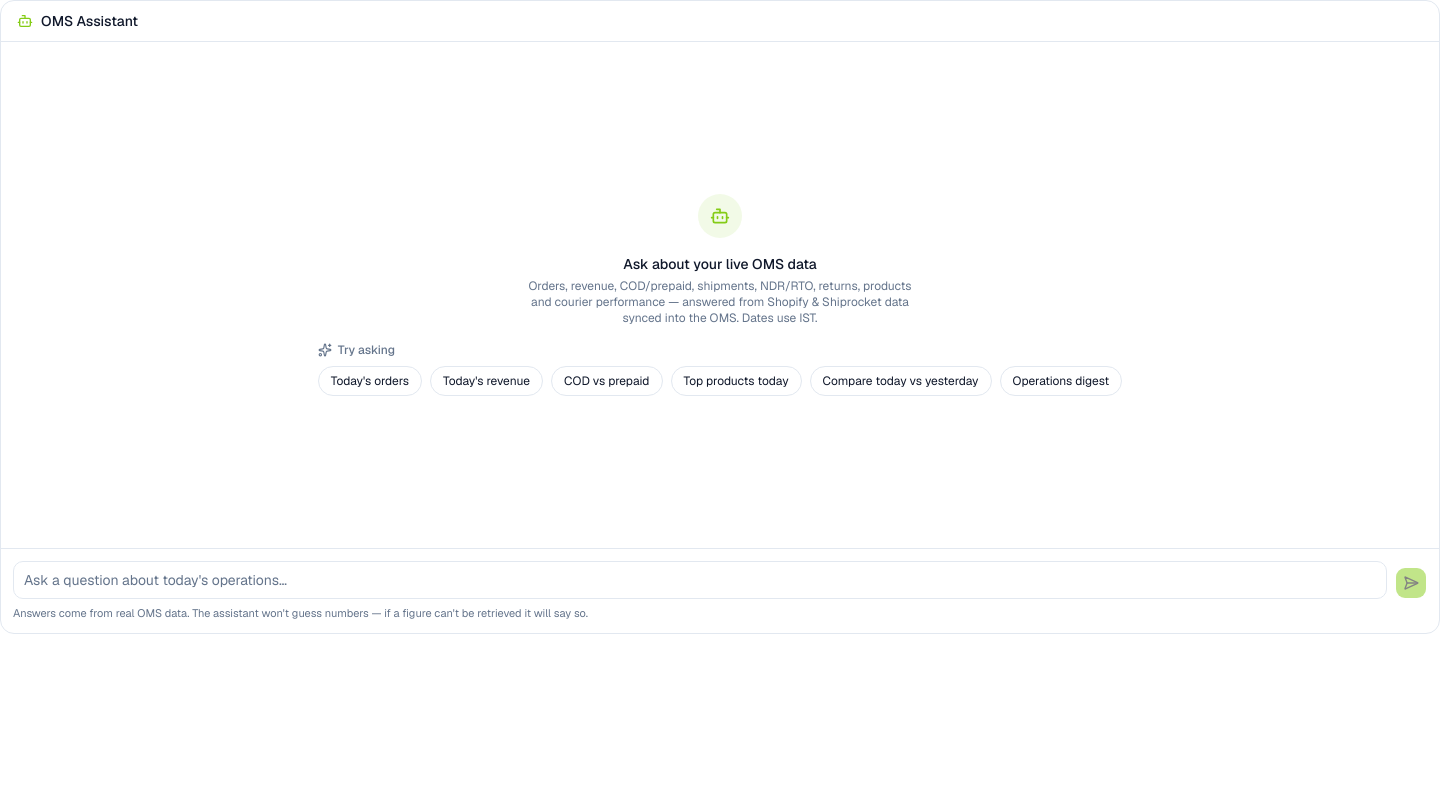
Test: ChatPanel › shows a Retry action when the request fails
The image size is (1440, 810).
Type "revenue today?" into the text box named "Message the OMS assistant" at x=700, y=580, box left=13, top=560, right=1387, bottom=598
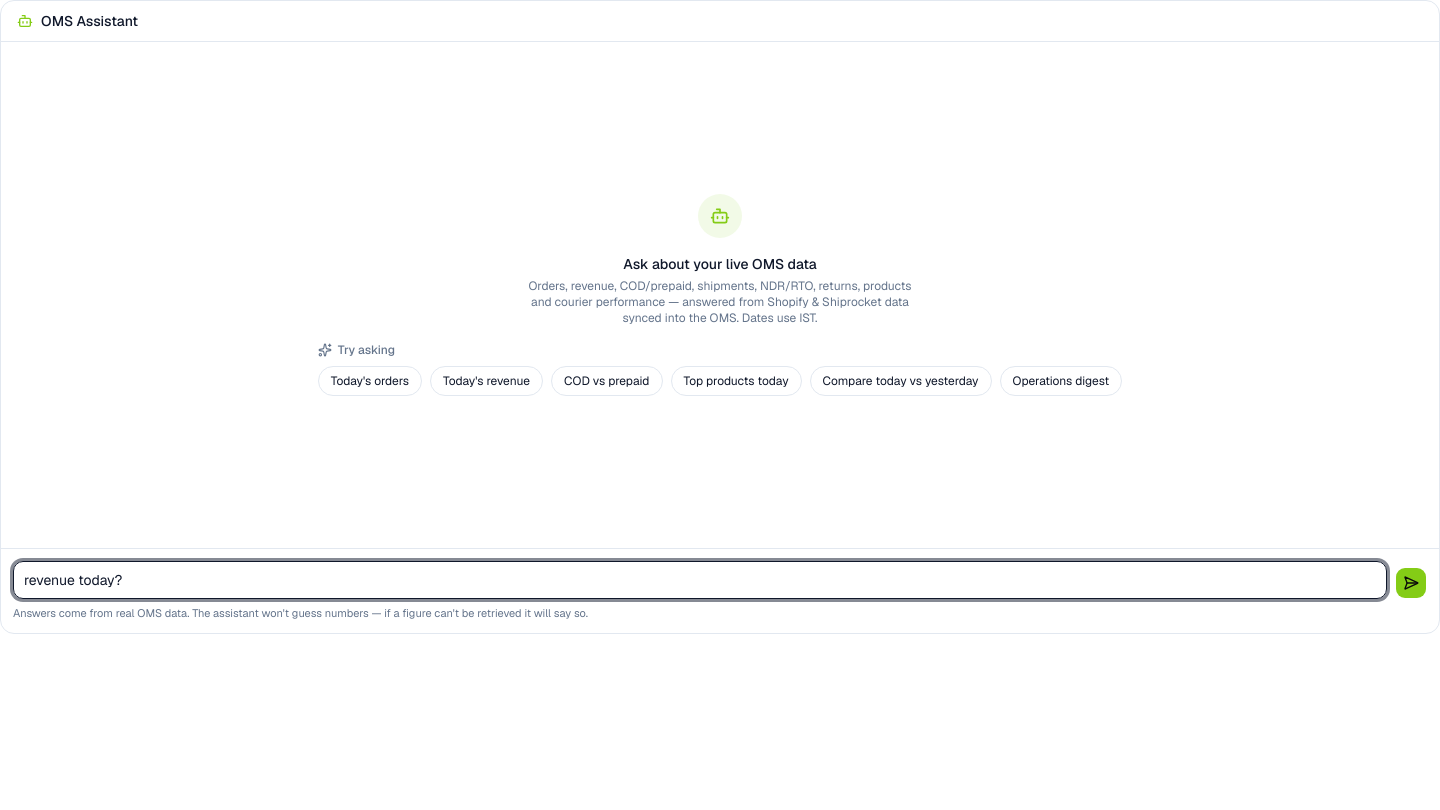
Click the button named "Send" at x=1411, y=582, box left=1395, top=566, right=1427, bottom=598
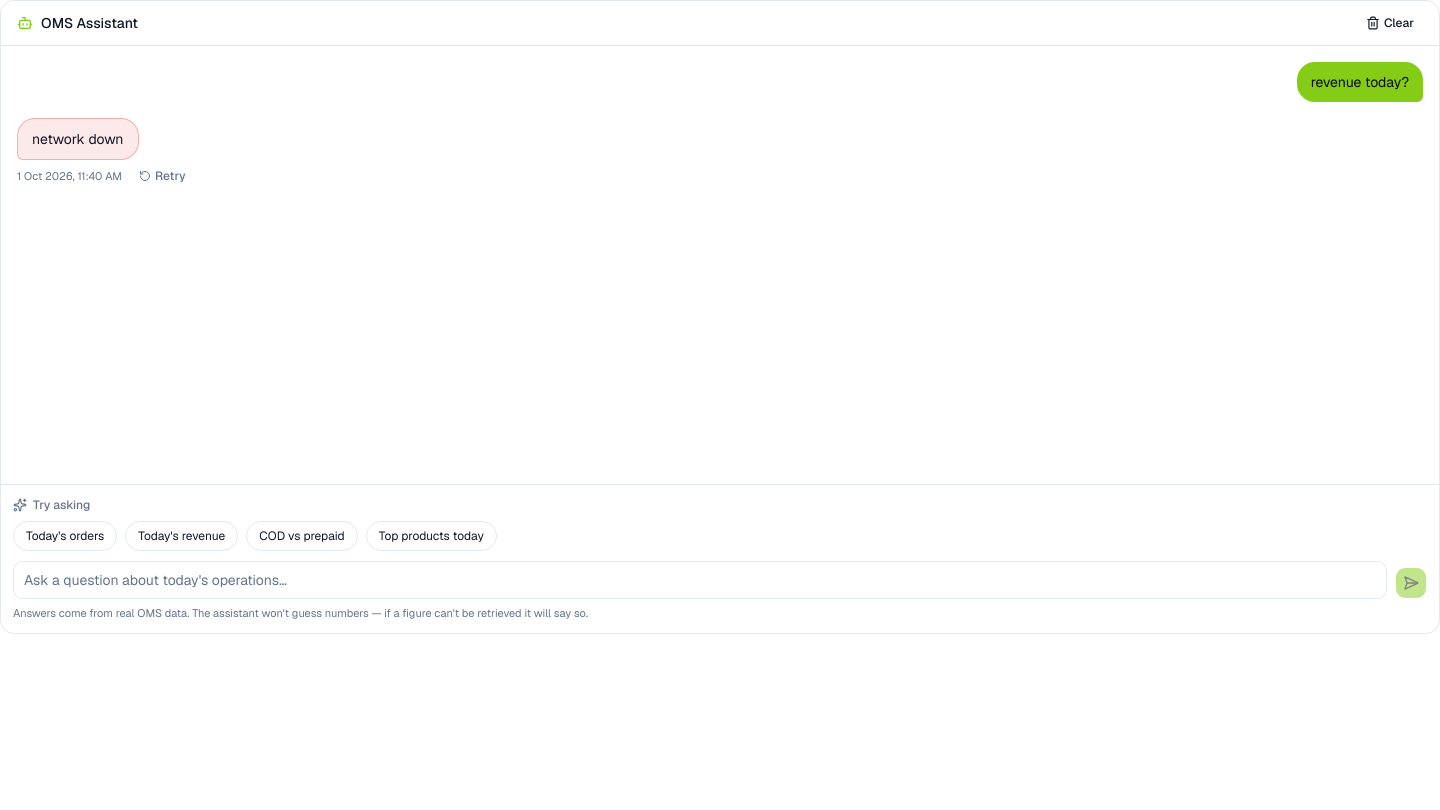
Now the text "network down" is shown, box left=17, top=118, right=138, bottom=160
Now the button "Retry" is shown, box left=130, top=164, right=194, bottom=188
